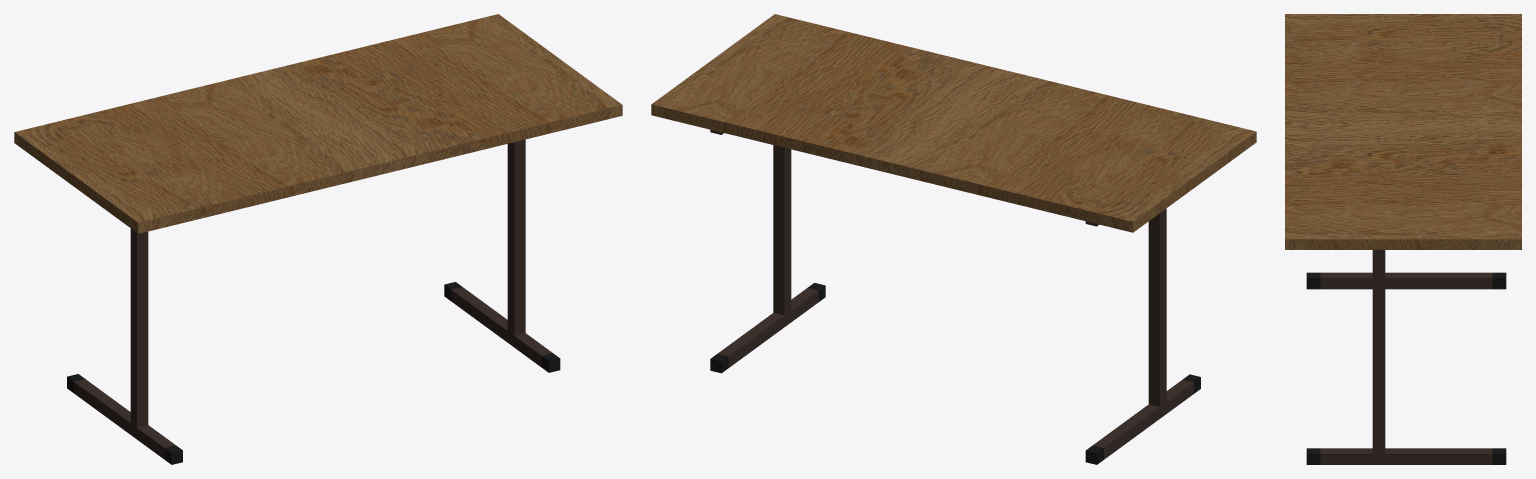
File: table4.FBX
The picture shows the model from 3 angles, left to right: view 1: azimuth 30°, elevation 25°; view 2: azimuth 150°, elevation 25°; view 3: azimuth 270°, elevation 25°; orthographic projection. The views are drawn at different scales.
Parts seen in each view (by area): view 1: table4; view 2: table4; view 3: table4.
Boxes of the visible parts, bbox=[...] form: table4: bbox=[14, 14, 622, 464]; table4: bbox=[651, 14, 1256, 464]; table4: bbox=[1285, 14, 1521, 464].
Bounding box in the file's own units: 17.14 × 8.84 × 7.61.
